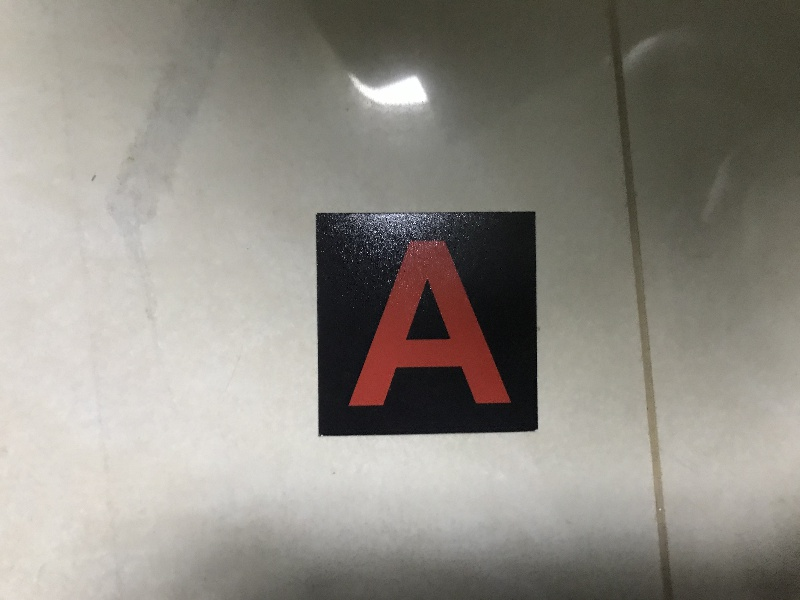A-11: (320, 214, 534, 430)
